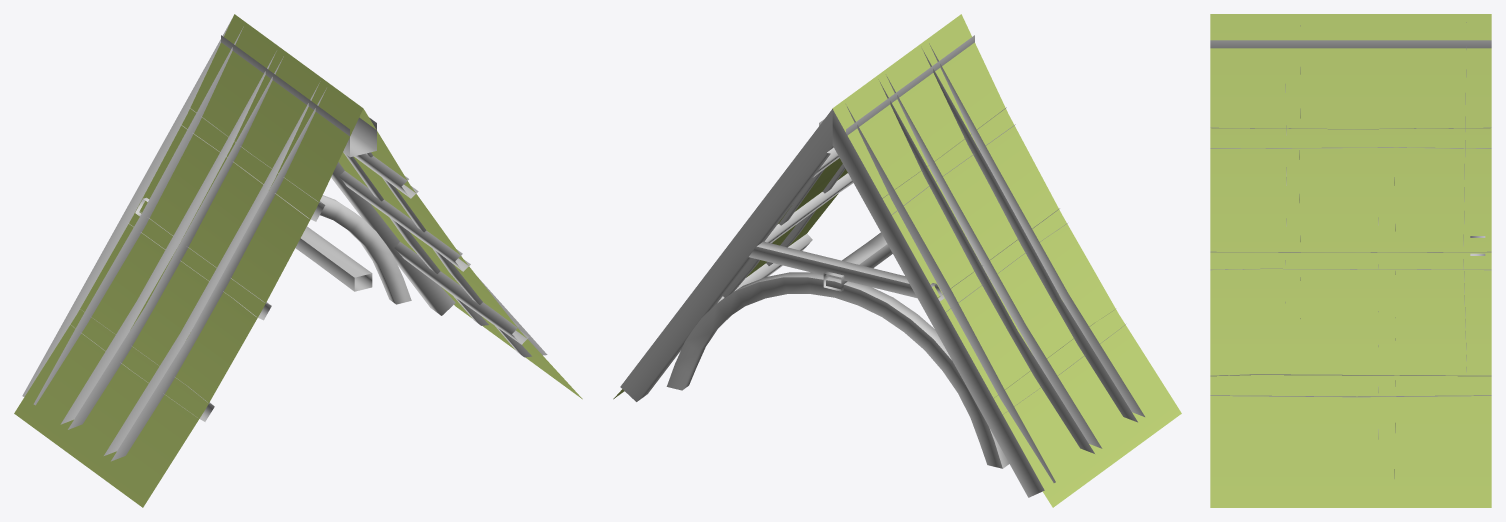
The model's file is roof_inside_small.fbx.
3 views of the same model, side by side, from view 1: azimuth 30°, elevation 25°; view 2: azimuth 150°, elevation 25°; view 3: azimuth 270°, elevation 25° (orthographic). The views are drawn at different scales.
Visible parts, largest first — view 1: Cube.036; view 2: Cube.036; view 3: Cube.036.
Boxes of the visible parts, left/top/right/bottom form: Cube.036: left=14, top=14, right=582, bottom=507; Cube.036: left=613, top=14, right=1181, bottom=507; Cube.036: left=1210, top=14, right=1491, bottom=507.
Size of the model in its own units: 9.87 by 7.4 by 5.
